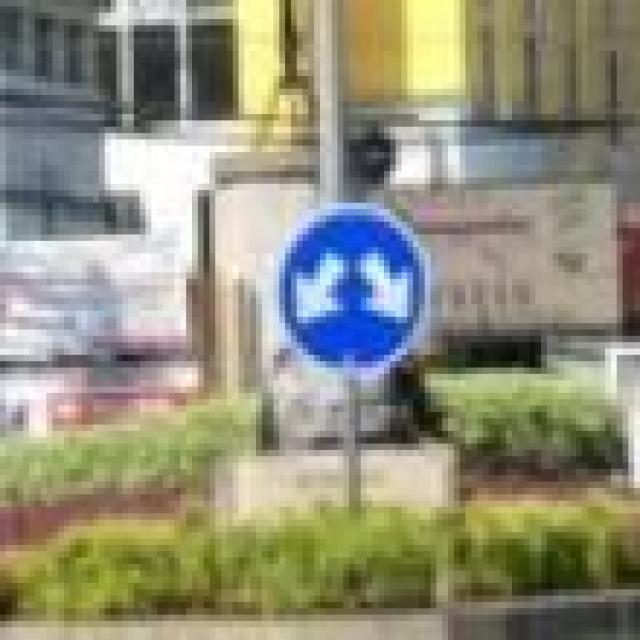traffic sign: (274, 203, 437, 374)
